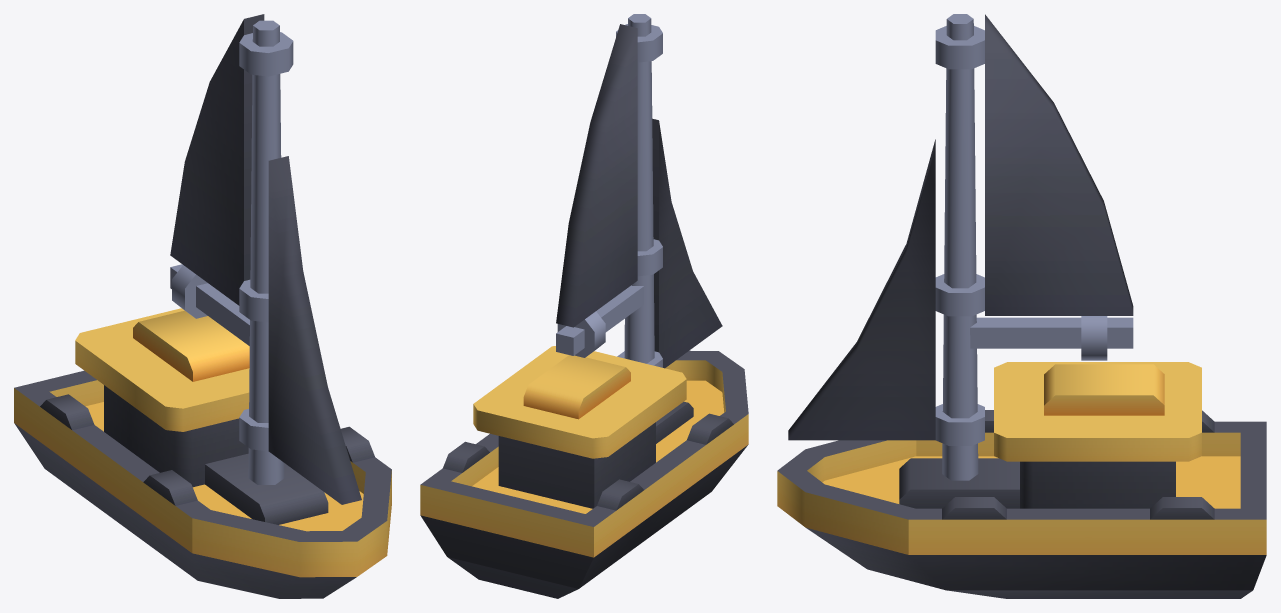
Rendered from boat-sail-a-transformed.glb.
3 views of the same model, side by side, from view 1: azimuth 30°, elevation 25°; view 2: azimuth 150°, elevation 25°; view 3: azimuth 270°, elevation 25° (orthographic). The views are drawn at different scales.
Parts seen in each view (by area): view 1: boat-sail-a; view 2: boat-sail-a; view 3: boat-sail-a.
Part boxes in pixels (bbox=[...]): boat-sail-a: bbox=[14, 14, 391, 598]; boat-sail-a: bbox=[420, 14, 748, 598]; boat-sail-a: bbox=[777, 14, 1266, 598].
Size of the model in its own units: 1.79 by 4.74 by 3.77.
Materials: 1 (1 with a texture image).
